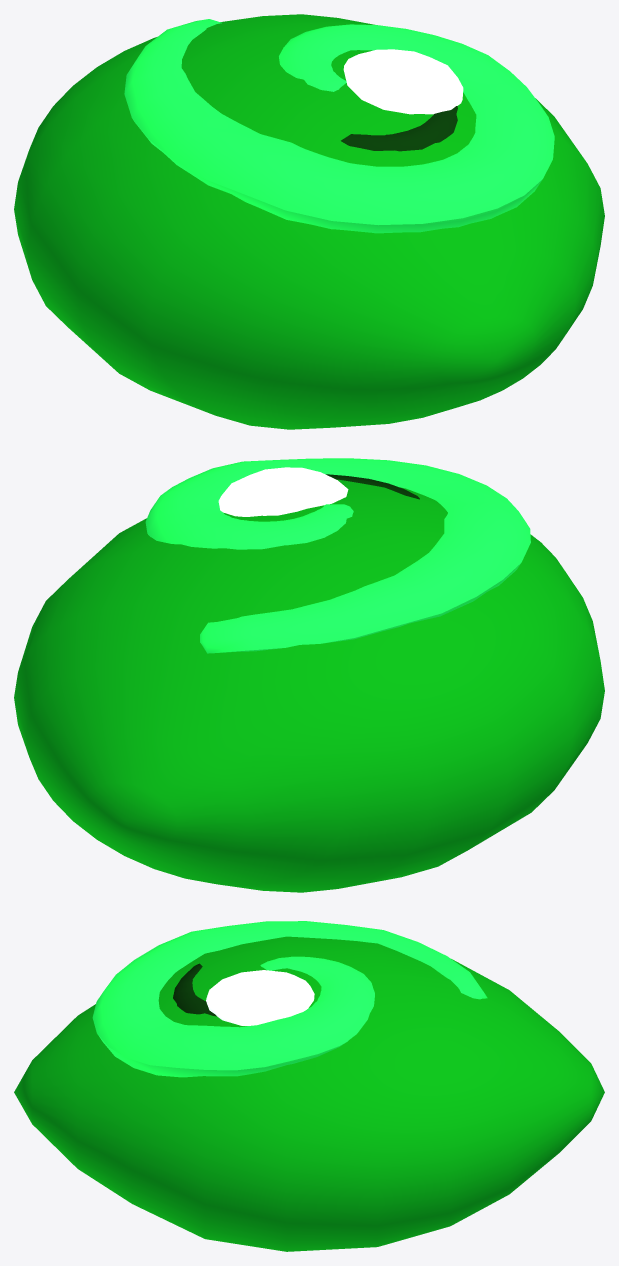
File: sk_mint.glb
The picture shows the model from 3 angles, top to bottom: view 1: azimuth 30°, elevation 25°; view 2: azimuth 150°, elevation 25°; view 3: azimuth 270°, elevation 25°; orthographic projection. The views are drawn at different scales.
Parts seen in each view (by area): view 1: gem, ridge, eye, groove; view 2: gem, ridge, eye; view 3: gem, ridge, eye, groove.
Boxes of the visible parts, x1,y1,x2,y2 form: gem: (14,14,604,429); ridge: (124,19,554,233); eye: (343,49,463,114); groove: (341,106,457,151); gem: (14,479,604,892); ridge: (145,458,530,653); eye: (218,467,348,516); gem: (14,936,604,1251); ridge: (92,921,487,1077); eye: (206,970,314,1025); groove: (173,963,216,1016).
Bounding box in the file's own units: 10 × 6.34 × 13.
